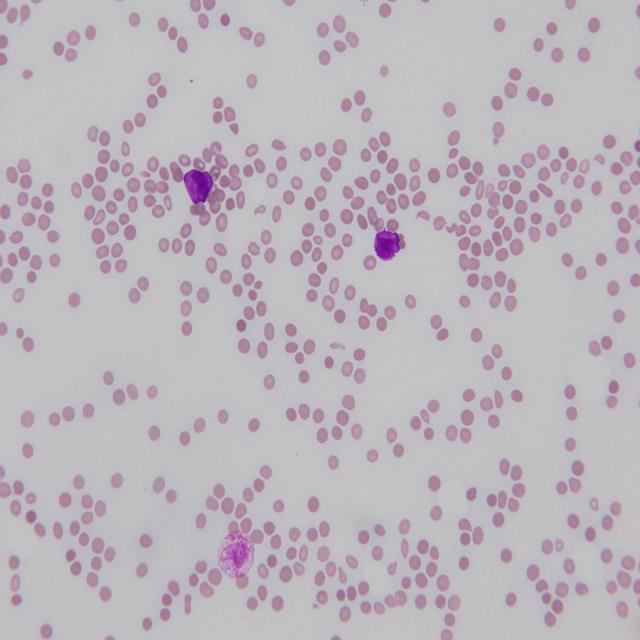cell: (184, 169, 212, 204), (374, 230, 400, 261)
